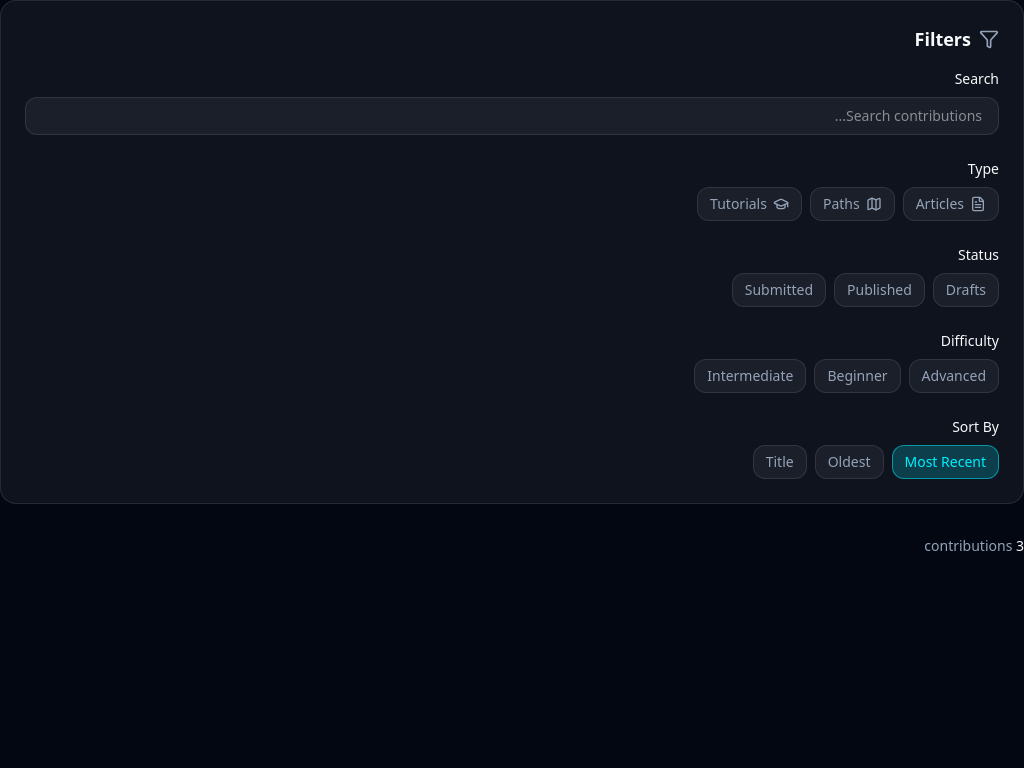
Test: ContributionList › filters by difficulty
The width and height of the screenshot is (1024, 768).
Click beginner filter button
Click the button "Beginner" at (858, 376), box [814,359,901,393]
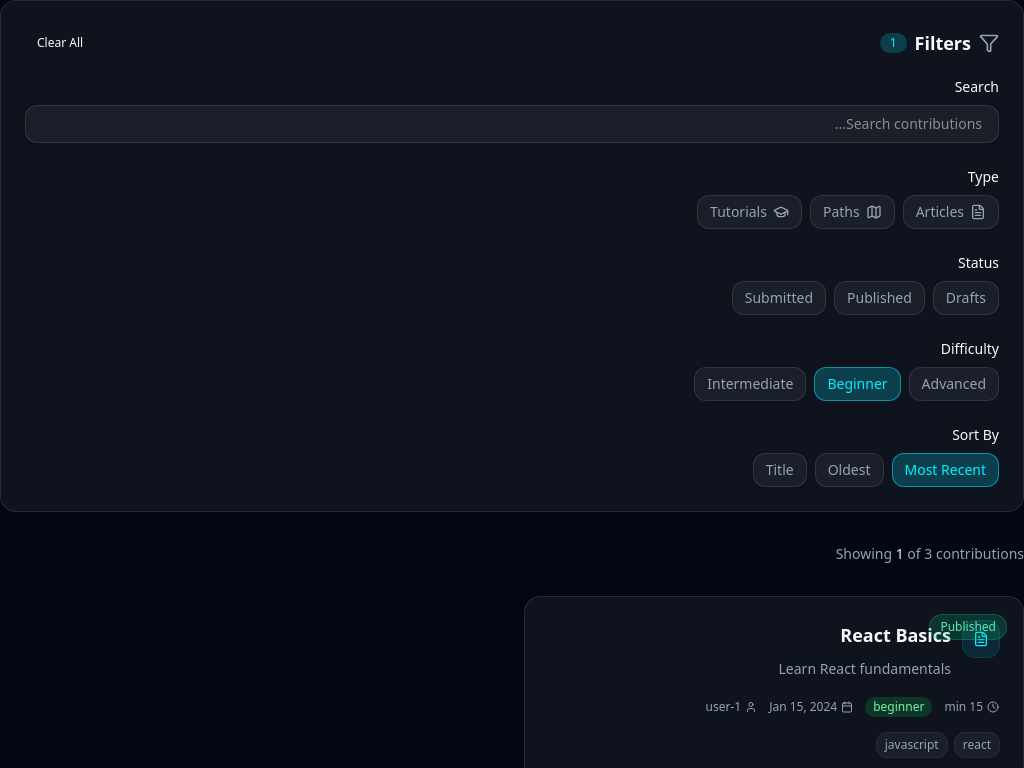
Expected: the heading "React Basics" is shown, [840,623,951,647]
